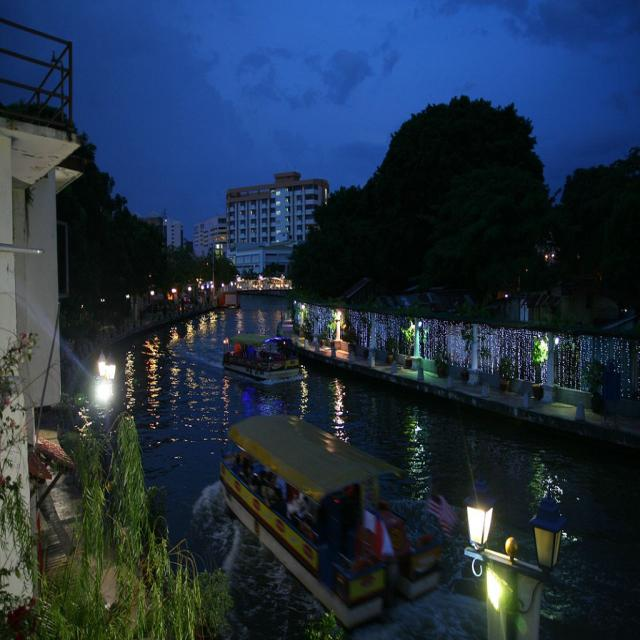Boat: (194, 405, 469, 624), (215, 320, 307, 378)
